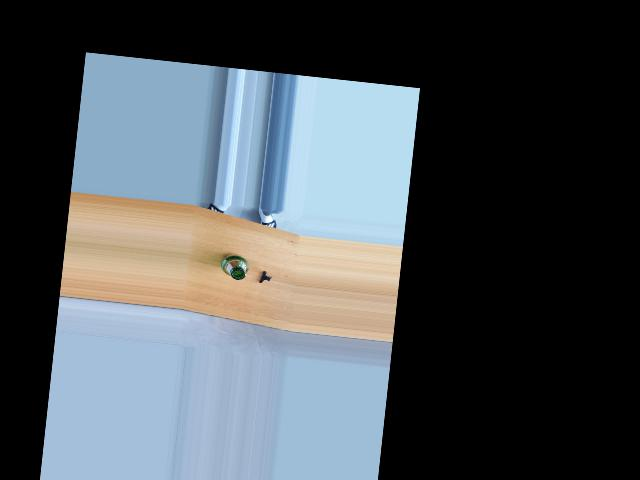beer: (219, 251, 250, 280)
